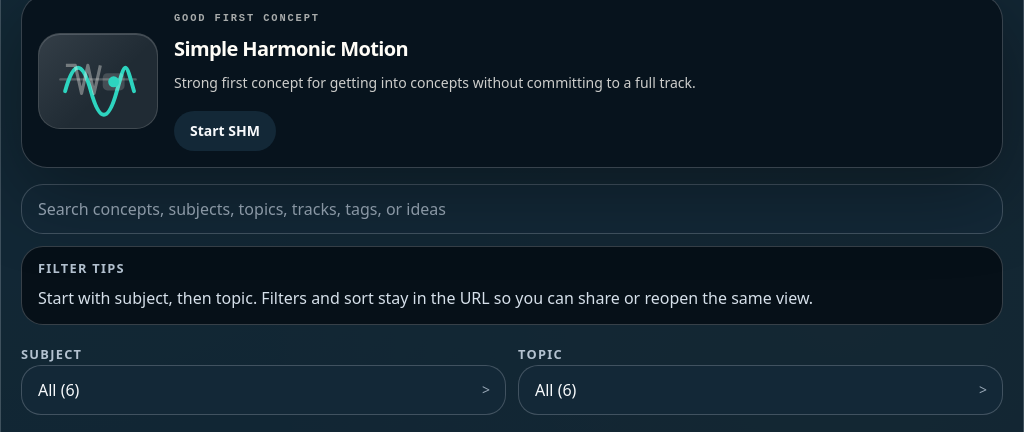
ConceptLibraryBrowser › shows focused clear actions while filters still return matching concepts
Type "trajectory" into the field with placeholder "Search concepts, subjects, topics, tracks, tags, or ideas" at [512, 209], box [21,184,1003,234]
(page scrolled)
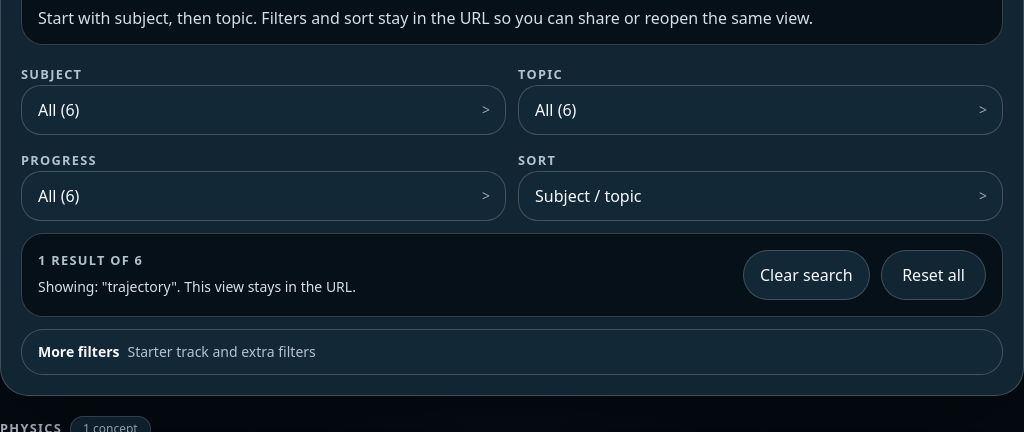
Expected: the button "Clear search" is shown
Click the button "Clear search" at [806, 275], box [743,250,869,300]
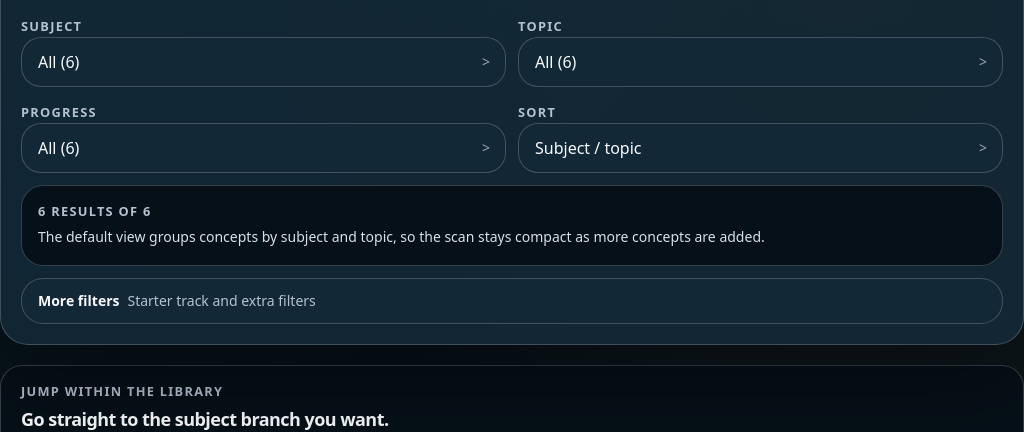
Select "Math (2)" in the dropdown named "subject filter" at [264, 62], box [21,37,506,87]
(page scrolled)
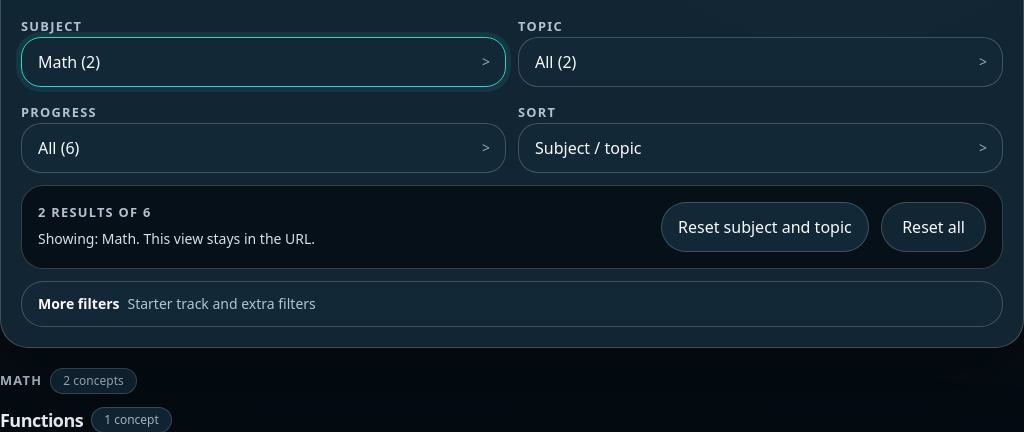
Expected: the button "Reset subject and topic" is shown
Click the button "Reset subject and topic" at [765, 227], box [661,202,869,252]
(page scrolled)
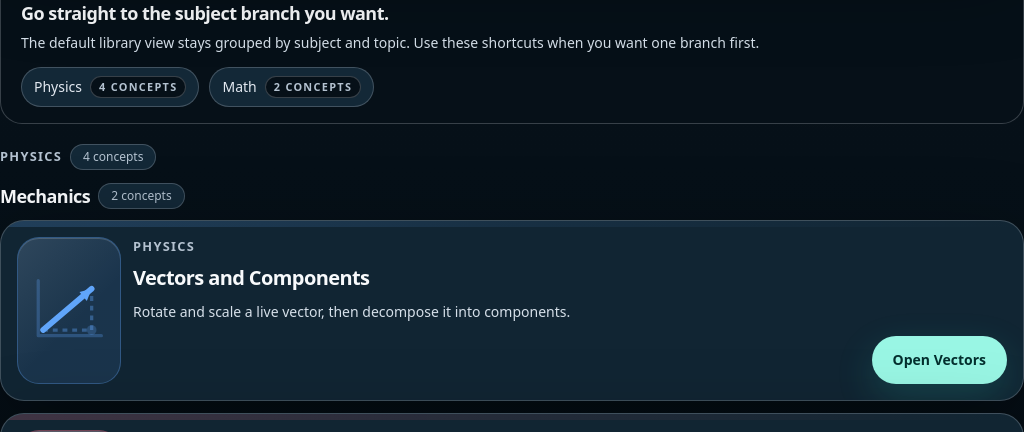
Expected: the heading "Vectors and Components" is shown, [133,264,369,291]
